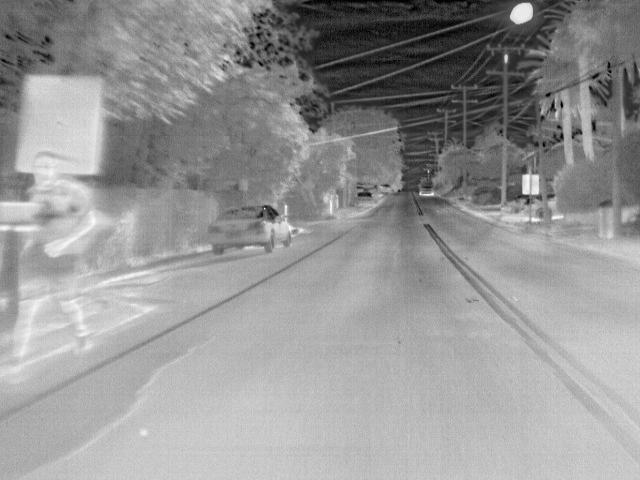car: (208, 205, 294, 256), (532, 195, 558, 218), (417, 180, 436, 196), (356, 192, 374, 206), (379, 184, 394, 195)
person: (2, 150, 96, 374)
